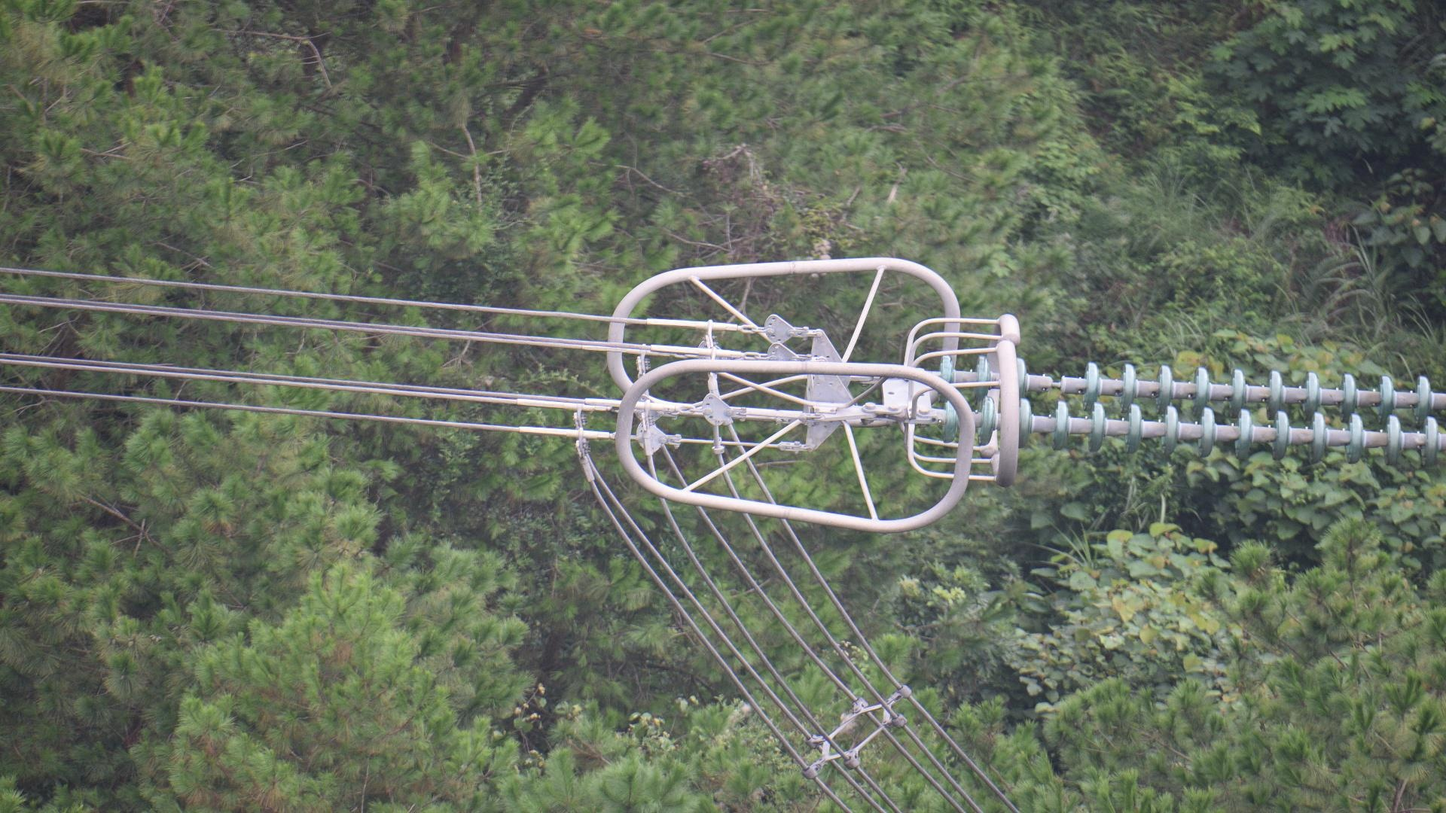insulator: (920, 348, 1446, 480)
